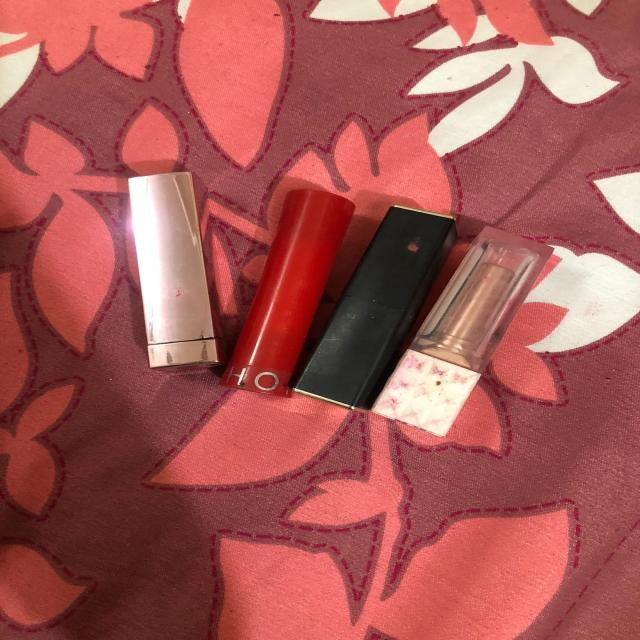lip stick: (112, 150, 552, 456)
